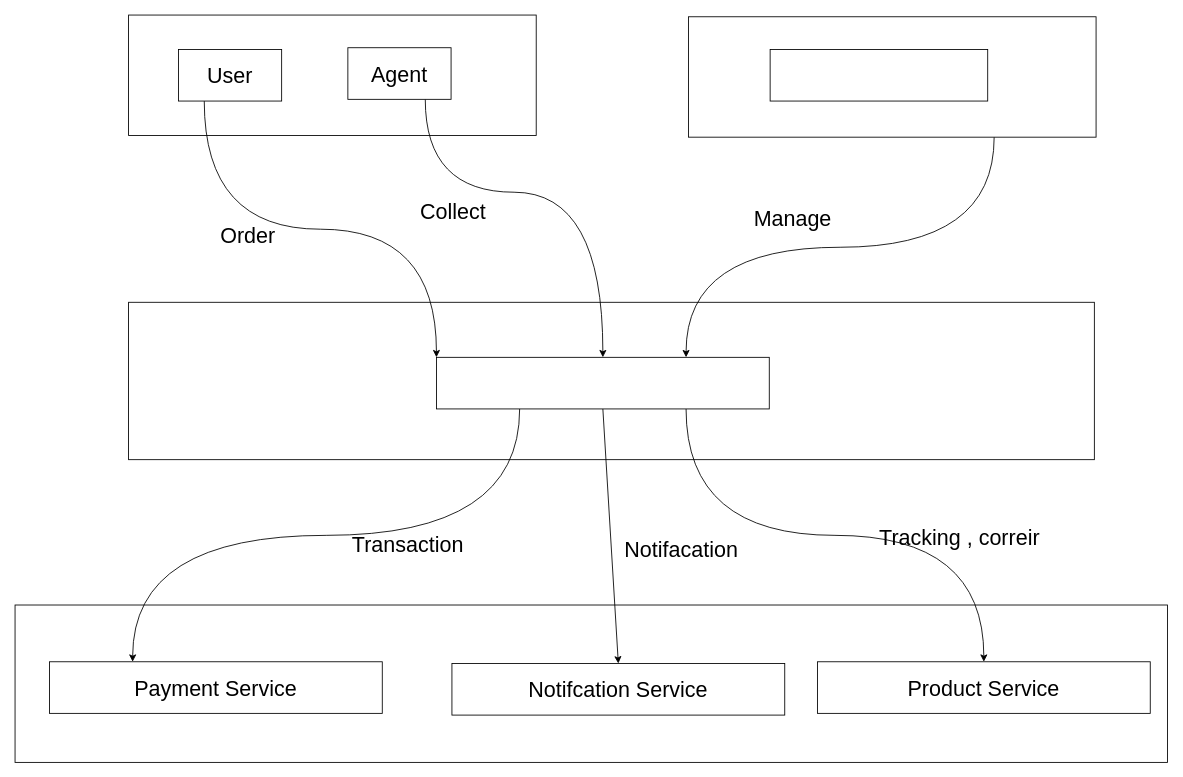
Some shapes in this 1183 by 777 pixel diagram are drawn without their labels. Here are the shapes that lost their labels. From the top down, the centre of each, then its label:
At pixel 878 75: "Admin".
At pixel 602 382: "Parcel Service".
